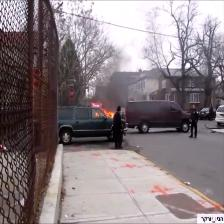fire: (90, 101, 123, 126)
